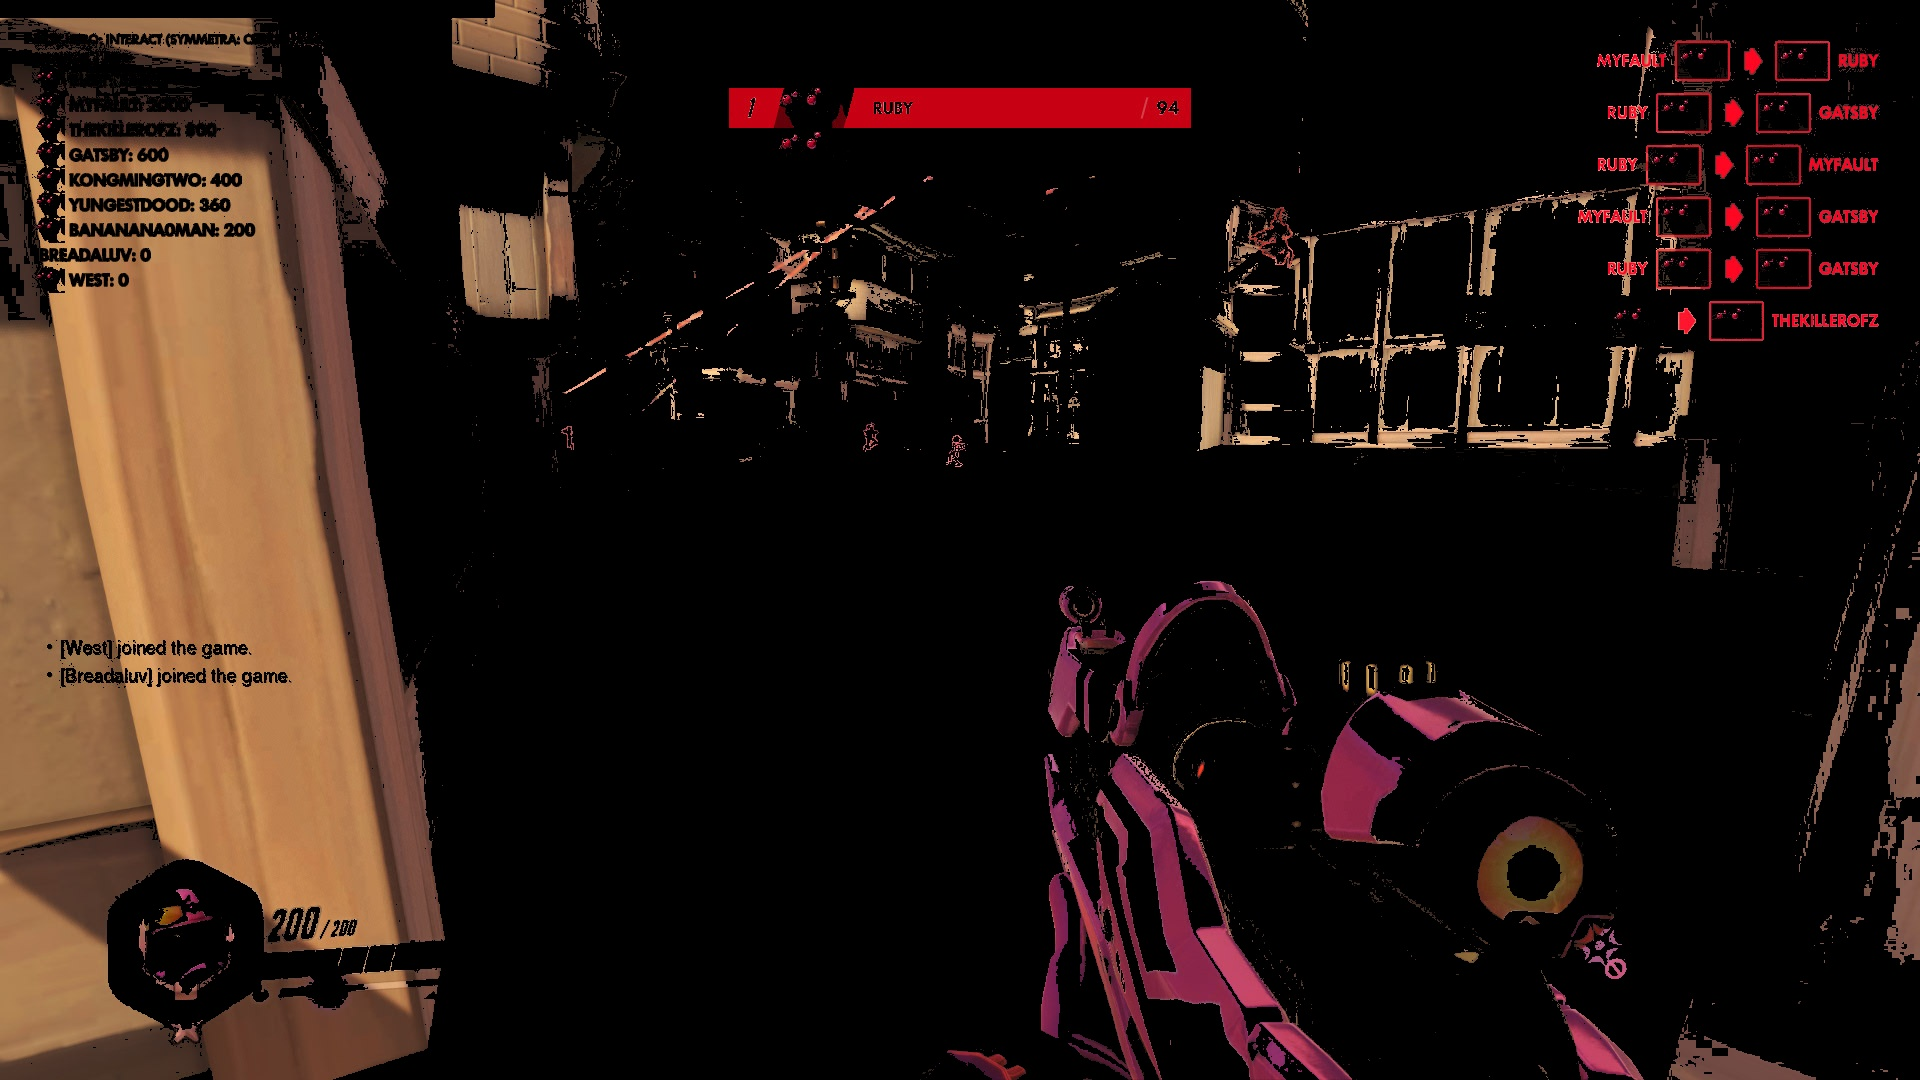widowmaker: (560, 419, 582, 455)
